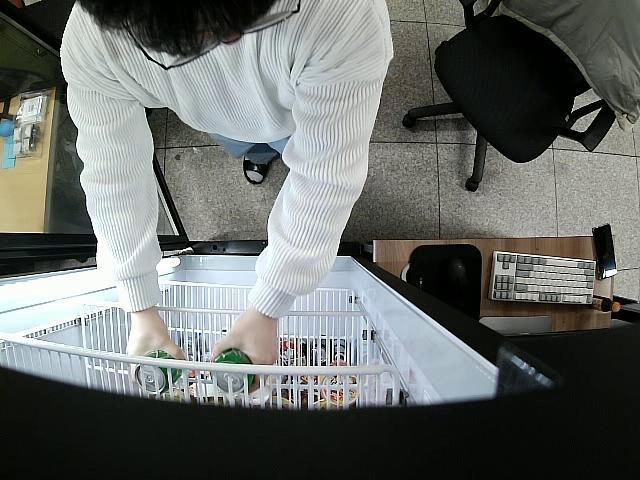12_chilsungCider: (135, 348, 183, 395), (212, 348, 256, 396)
